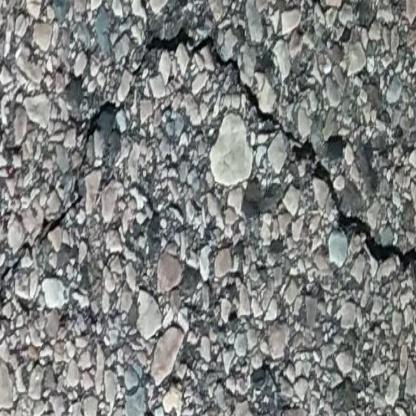Cracks: (144, 23, 416, 276), (0, 99, 128, 286)
